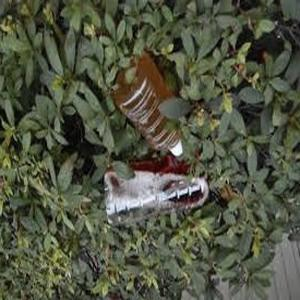Plastic: (102, 158, 209, 228), (113, 56, 186, 156)
